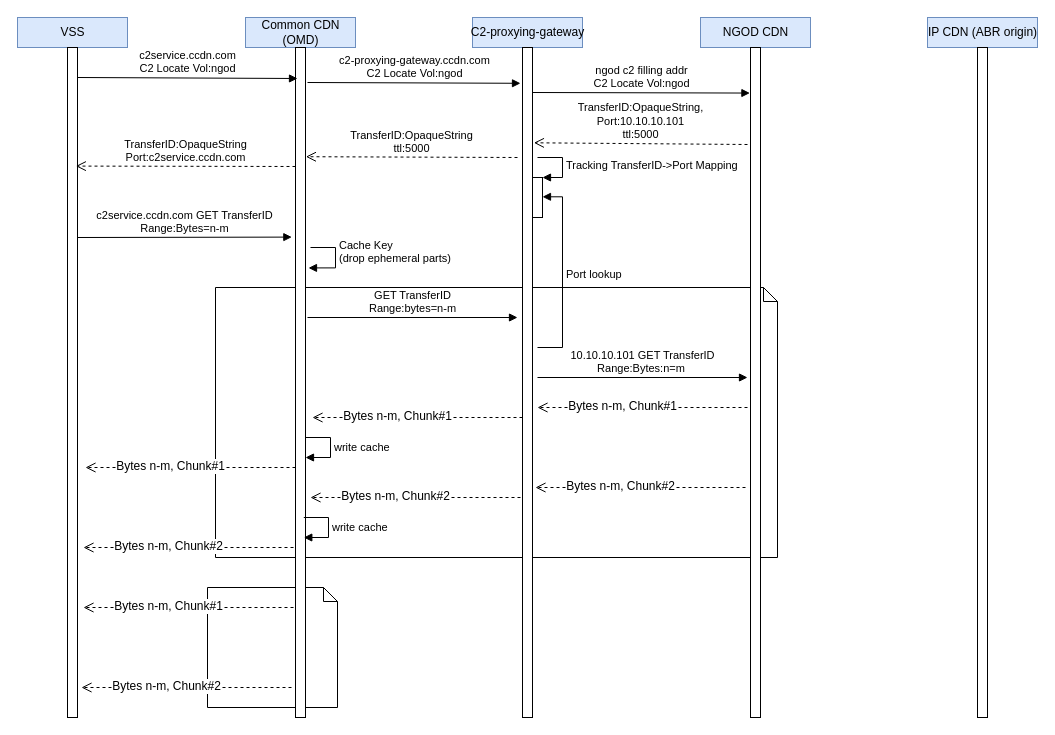
Image size: 1055x735. Some labels were removed from this diagram. Here are the shapes that lost their labels. From the top down, the centre of each, then its label:
At (496,422): "Cache Miss".
At (272,647): "Cache Hit".
